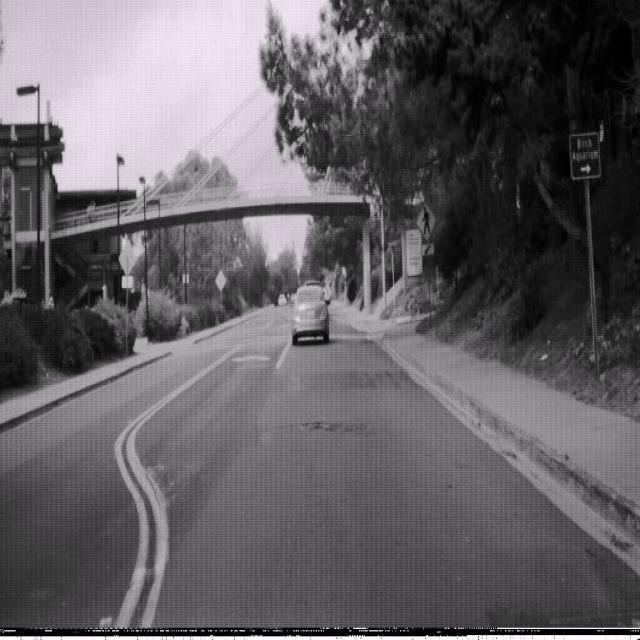pedestrianCrossing: (415, 198, 436, 242)
